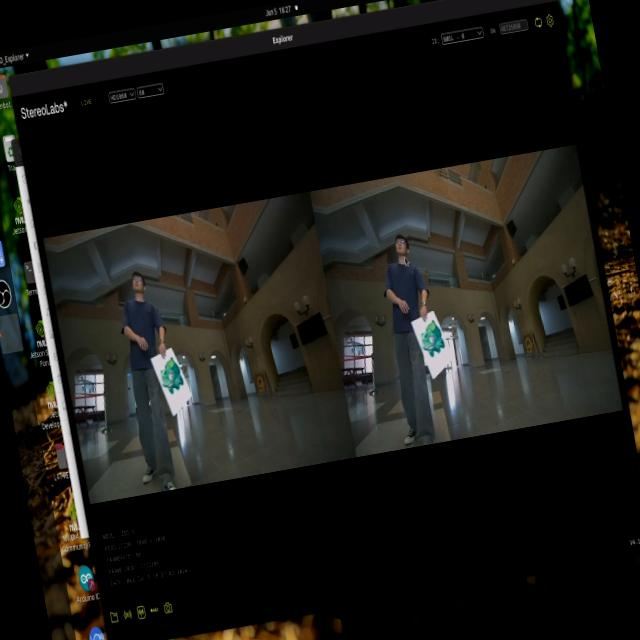green: (420, 318, 457, 382), (154, 350, 184, 402)
